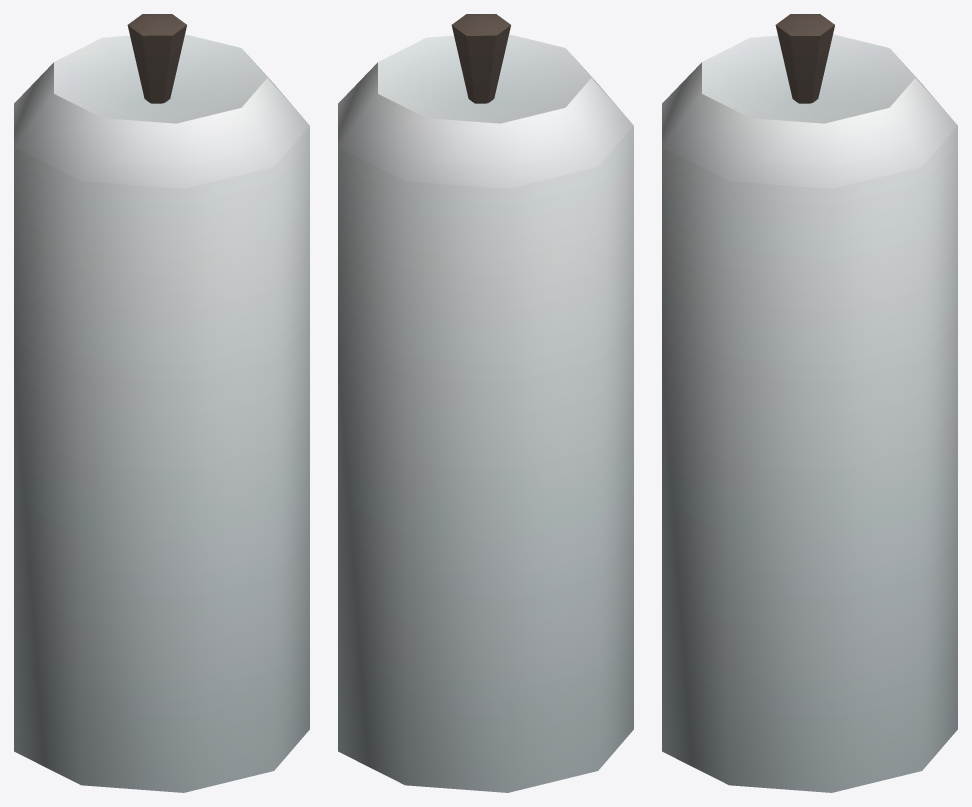
The model's file is kaykit-halloween-bits-candle.glb.
The picture shows the model from 3 angles, left to right: view 1: azimuth 30°, elevation 25°; view 2: azimuth 150°, elevation 25°; view 3: azimuth 270°, elevation 25°; orthographic projection.
Parts seen in each view (by area): view 1: candle; view 2: candle; view 3: candle.
Part boxes in pixels (<box>): candle: <box>14,14,309,792</box>; candle: <box>338,14,633,792</box>; candle: <box>662,14,957,792</box>.
Bounding box in the file's own units: 0.3009 × 0.7857 × 0.2964.
1 material, 1 textured.
